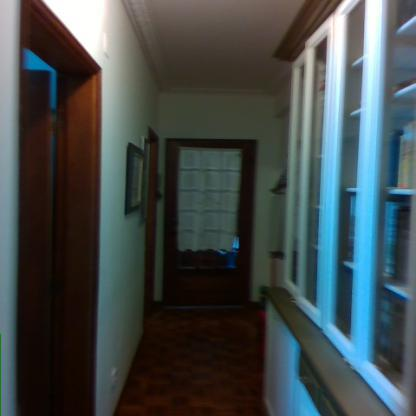door: (22, 69, 65, 415), (172, 143, 252, 299)
hinged: (48, 108, 62, 138)
